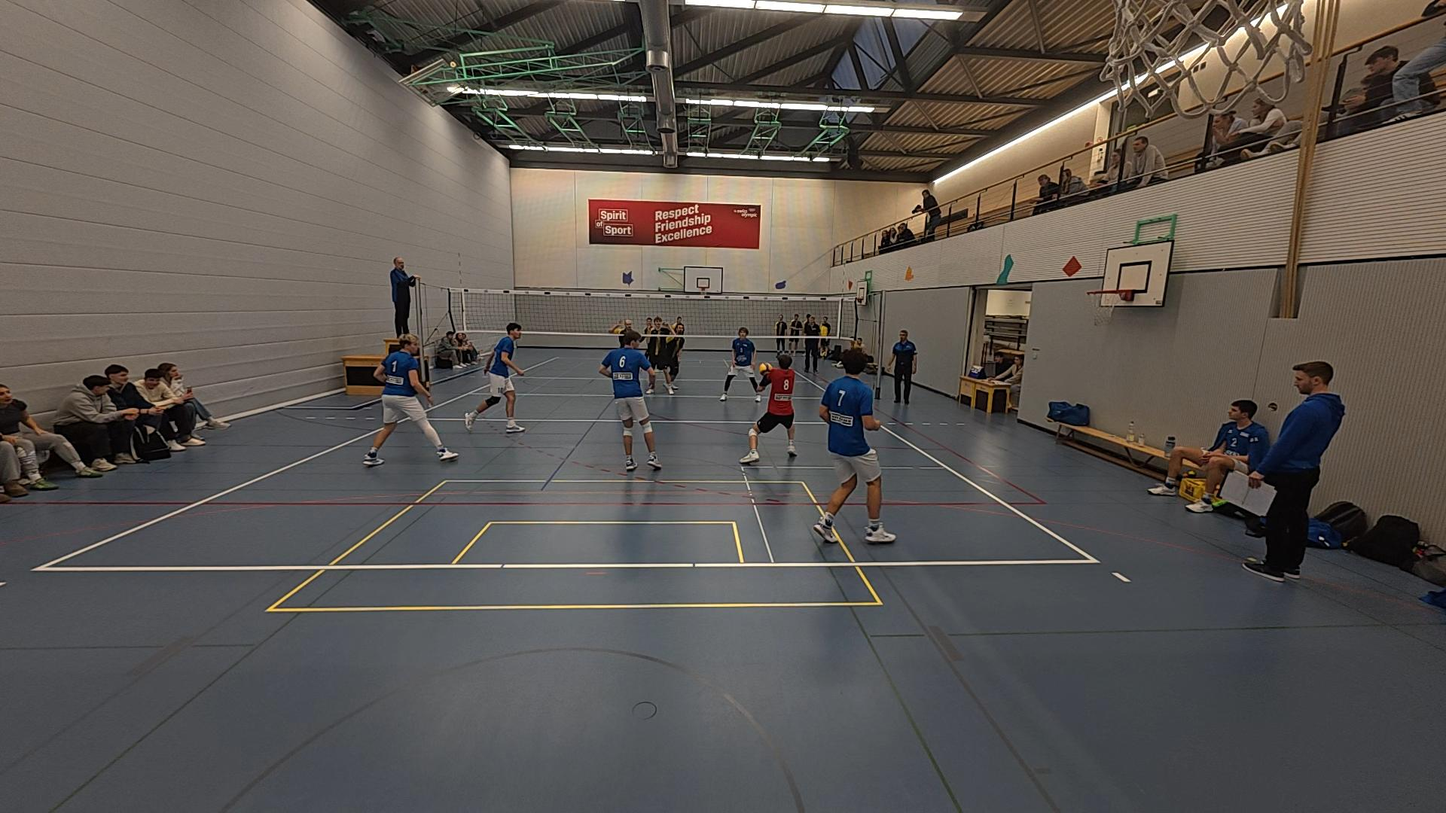ricezione: (739, 353, 800, 464)
